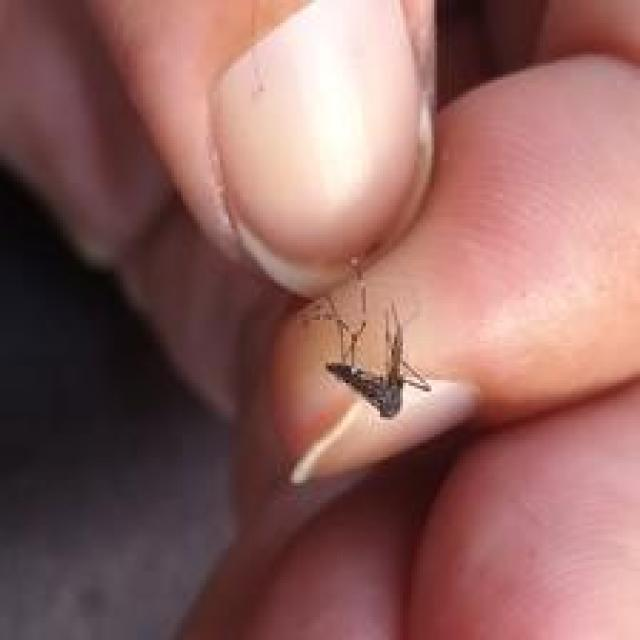Aedes albopictus: (320, 297, 434, 420)
